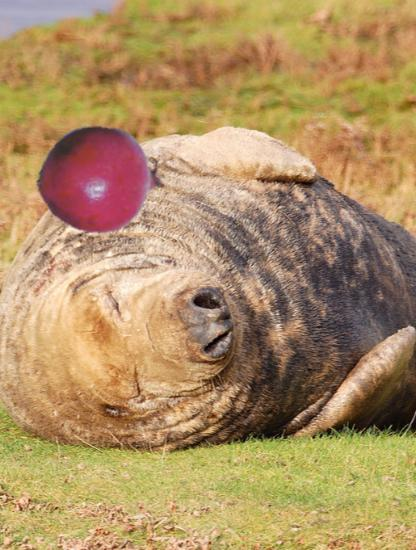Pomegranate: (35, 116, 162, 243)
